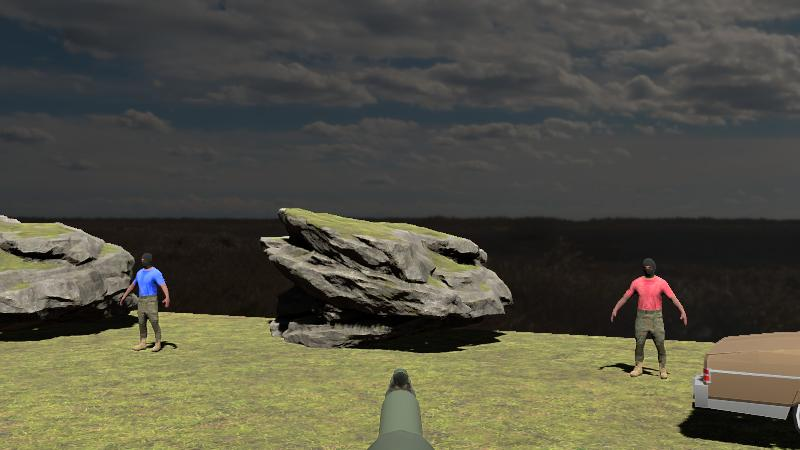Human: (611, 257, 686, 380), (121, 253, 169, 353)
car: (690, 287, 800, 448)
